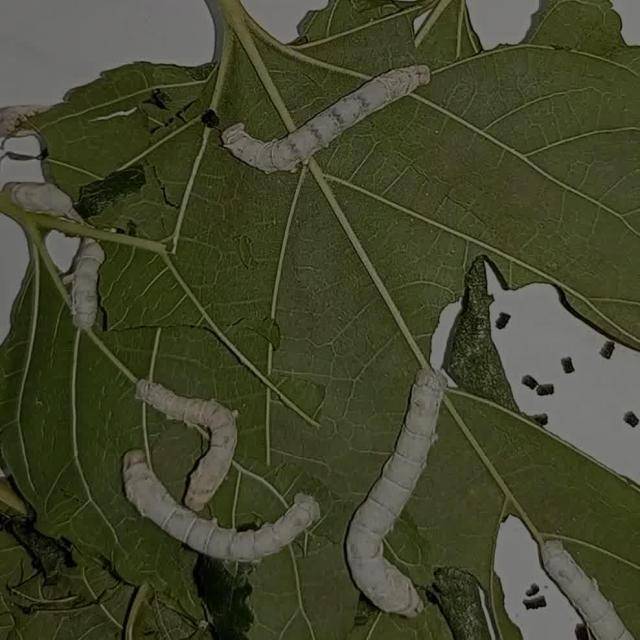Healthy: (96, 352, 330, 584), (339, 339, 472, 639), (210, 46, 476, 192), (1, 66, 138, 348), (531, 512, 640, 640)
